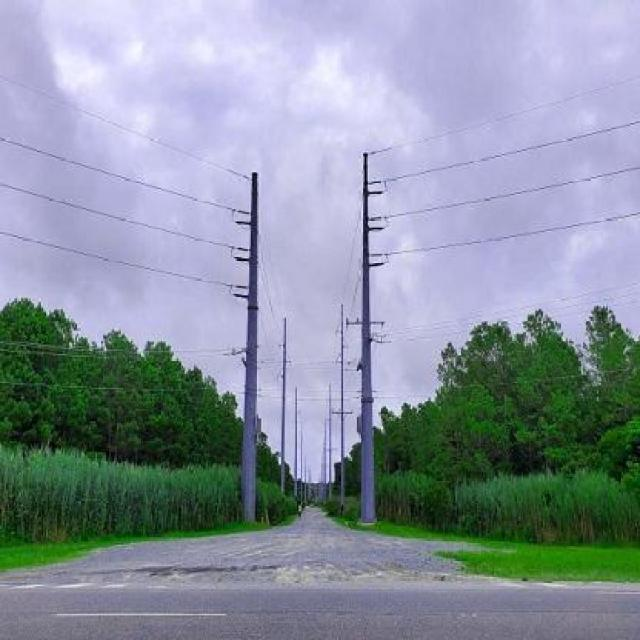pole: (343, 135, 415, 523), (220, 168, 280, 517)
